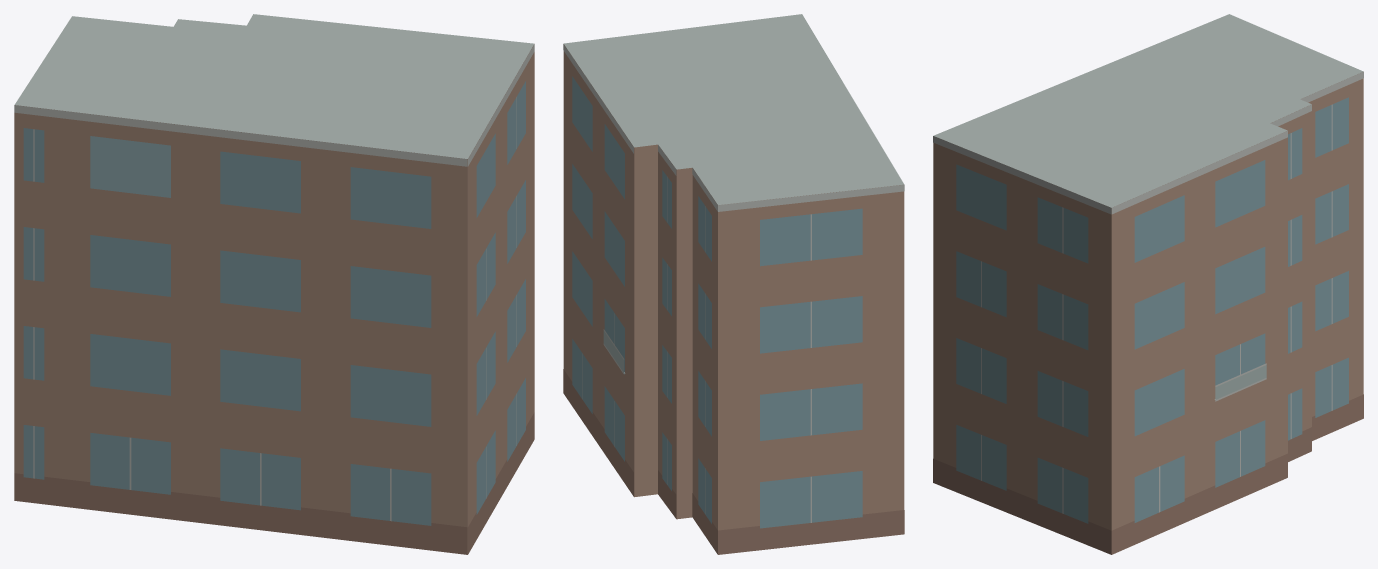
The model's file is survey-upis-32854585.glb.
3 views of the same model, side by side, from view 1: azimuth 30°, elevation 25°; view 2: azimuth 150°, elevation 25°; view 3: azimuth 270°, elevation 25° (orthographic). The views are drawn at different scales.
Visible parts, largest first — view 1: survey-upis-32854585.tmp; view 2: survey-upis-32854585.tmp; view 3: survey-upis-32854585.tmp.
Boxes of the visible parts, x1=… form: survey-upis-32854585.tmp: x1=14, y1=14, x2=534, y2=554; survey-upis-32854585.tmp: x1=563, y1=14, x2=904, y2=554; survey-upis-32854585.tmp: x1=933, y1=14, x2=1363, y2=554.
Bounding box in the file's own units: 14.98 × 12.5 × 14.06.
